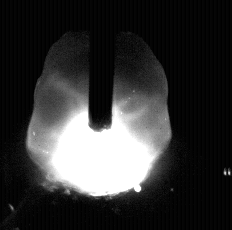arame: (88, 0, 114, 131)
poca: (26, 0, 170, 230)
